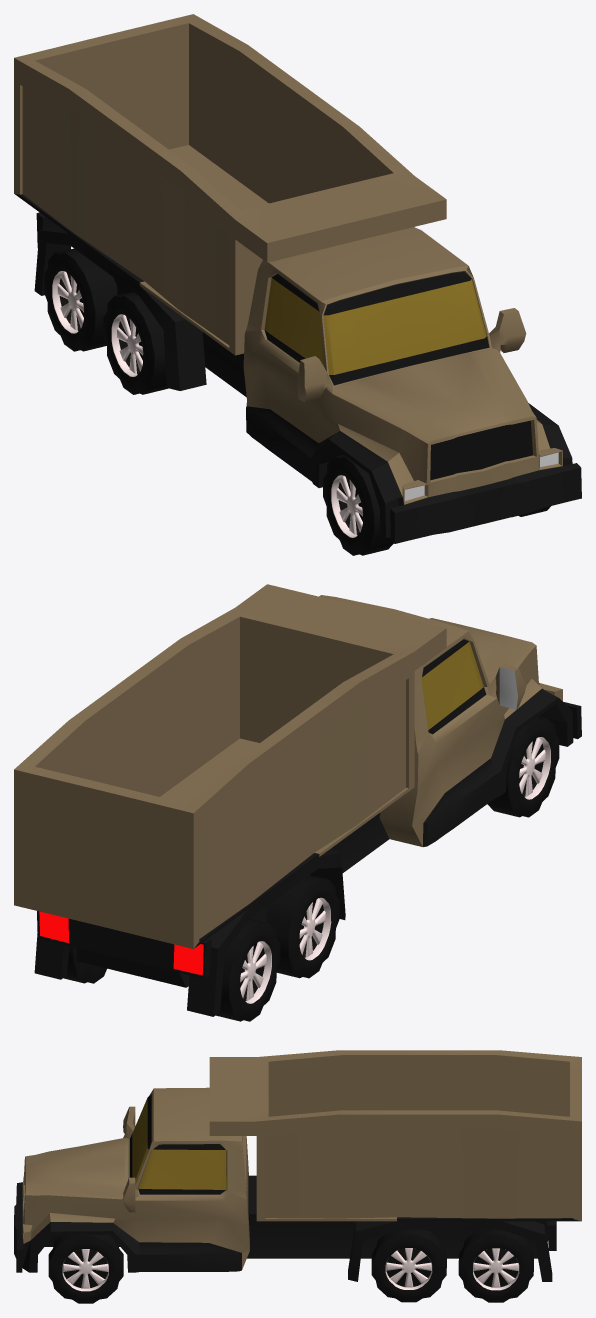
The model's file is kamyon.fbx.
3 views of the same model, one above another, from view 1: azimuth 30°, elevation 25°; view 2: azimuth 150°, elevation 25°; view 3: azimuth 270°, elevation 25° (orthographic). The views are drawn at different scales.
Visible parts, largest first — view 1: acikkasa, ofroad6.003, ofroad6.002, ofroad6.001; view 2: acikkasa, ofroad6.002, ofroad6.003, ofroad6.001, ofroad6.005; view 3: acikkasa, ofroad6.006, ofroad6.005, ofroad6.004.
Part boxes in pixels (bbox=[...]): acikkasa: bbox=[14, 14, 581, 543]; ofroad6.003: bbox=[44, 248, 117, 351]; ofroad6.002: bbox=[103, 292, 168, 394]; ofroad6.001: bbox=[323, 455, 393, 555]; acikkasa: bbox=[14, 584, 581, 1016]; ofroad6.002: bbox=[266, 875, 339, 978]; ofroad6.003: bbox=[215, 918, 280, 1021]; ofroad6.001: bbox=[487, 716, 559, 817]; ofroad6.005: bbox=[63, 946, 106, 983]; acikkasa: bbox=[14, 1050, 581, 1281]; ofroad6.006: bbox=[371, 1229, 446, 1302]; ofroad6.005: bbox=[458, 1229, 533, 1302]; ofroad6.004: bbox=[48, 1234, 123, 1303].
Bounding box in the file's own units: 821 × 906 × 2479.
